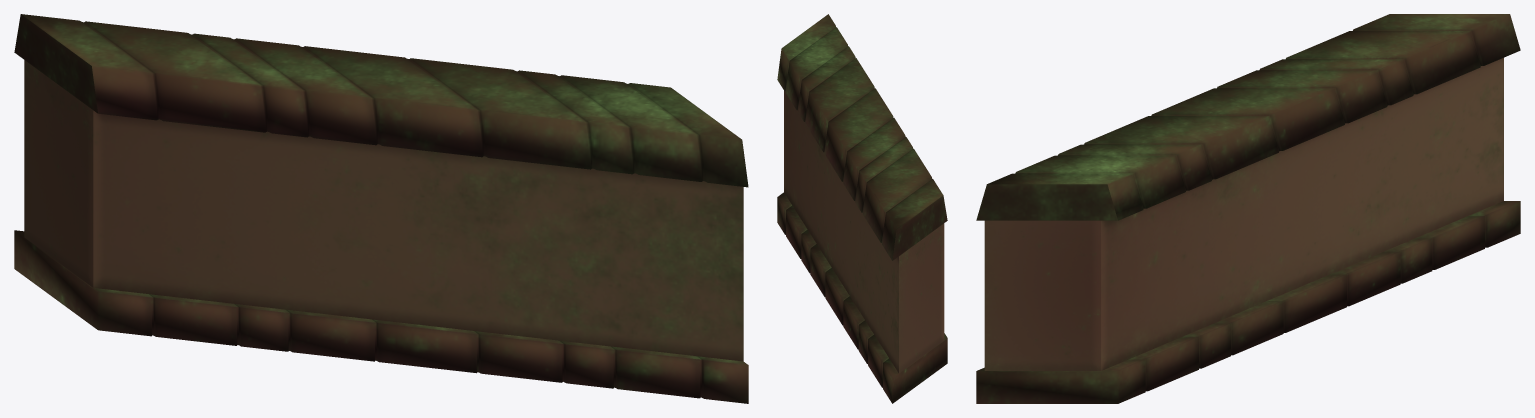
Rendered from ParedDiagonalPequeña.fbx.
The picture shows the model from 3 angles, left to right: view 1: azimuth 30°, elevation 25°; view 2: azimuth 150°, elevation 25°; view 3: azimuth 270°, elevation 25°; orthographic projection. The views are drawn at different scales.
Parts seen in each view (by area): view 1: Small_Diagonal_Wall.006; view 2: Small_Diagonal_Wall.006; view 3: Small_Diagonal_Wall.006.
Boxes of the visible parts, bbox=[...] form: Small_Diagonal_Wall.006: bbox=[14, 14, 748, 403]; Small_Diagonal_Wall.006: bbox=[777, 14, 947, 403]; Small_Diagonal_Wall.006: bbox=[976, 14, 1520, 403].
Bounding box in the file's own units: 4 × 2.41 × 5.41.
